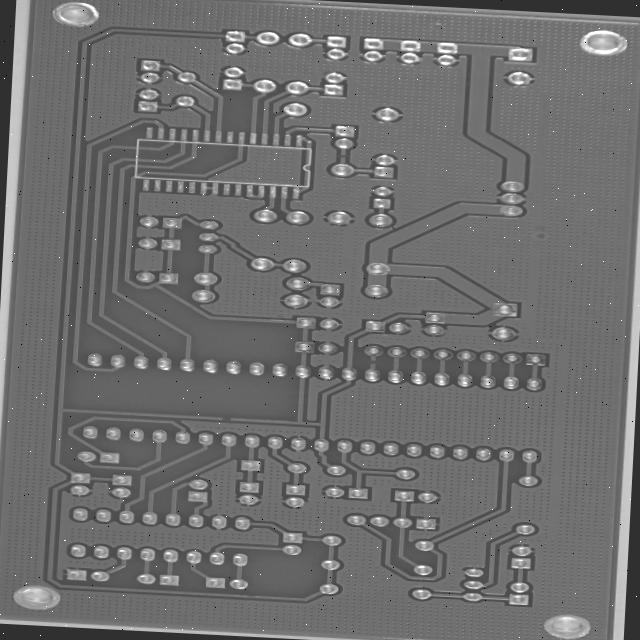open_circuit: (178, 420, 197, 432), (338, 363, 357, 374), (306, 153, 320, 162)
